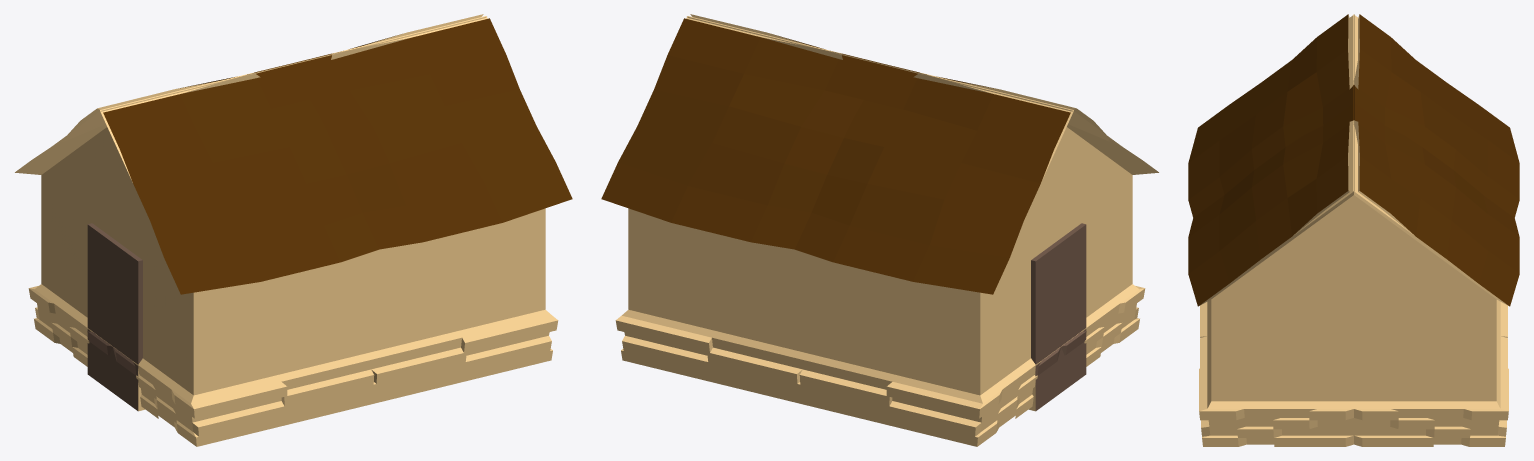
File: Town_House1.fbx
The picture shows the model from 3 angles, left to right: view 1: azimuth 30°, elevation 25°; view 2: azimuth 150°, elevation 25°; view 3: azimuth 270°, elevation 25°; orthographic projection. The views are drawn at different scales.
Parts seen in each view (by area): view 1: Cube; view 2: Cube; view 3: Cube.
Part boxes in pixels (box(x1,y1,x2,y2)): Cube: box(15, 14, 572, 446); Cube: box(601, 14, 1158, 446); Cube: box(1188, 14, 1519, 446).
Bounding box in the file's own units: 891 × 620 × 697.
